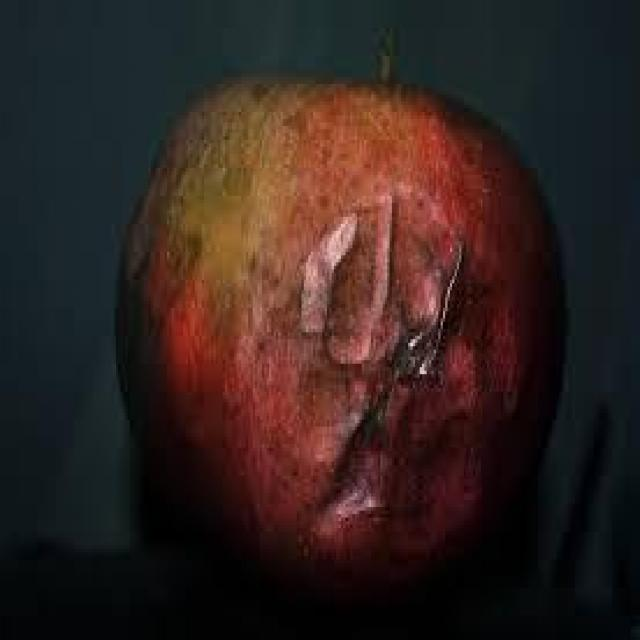Rotten: (109, 53, 568, 610)
